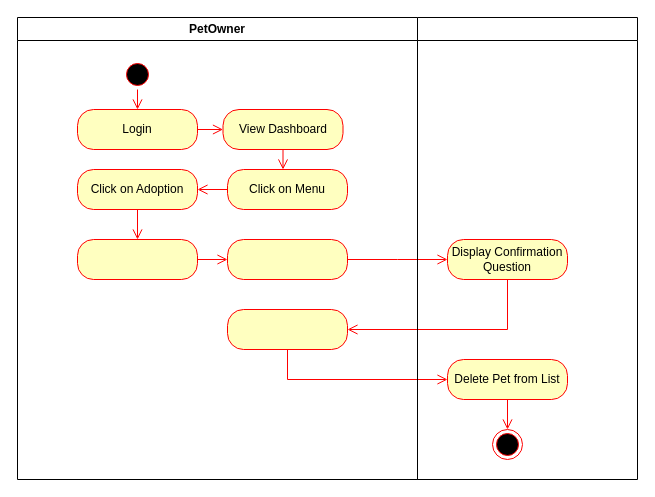
Some shapes in this 655 by 497 pixel diagram are drawn without their labels. The box of each missing label's shape, as (x1, y1, x2, y2) in pixels:
Click on Confirm: (226, 308, 348, 350)
Click on My Adoptions: (76, 238, 198, 280)
Click on Remove Pet Icon: (226, 238, 348, 280)
System: (416, 16, 638, 480)
